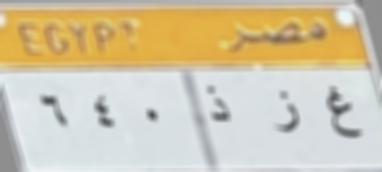0: (140, 100, 167, 134)
4: (86, 86, 122, 140)
6: (36, 89, 73, 138)
ghayn: (322, 81, 364, 148)
zaal: (204, 80, 236, 134)
zay: (269, 86, 306, 146)
